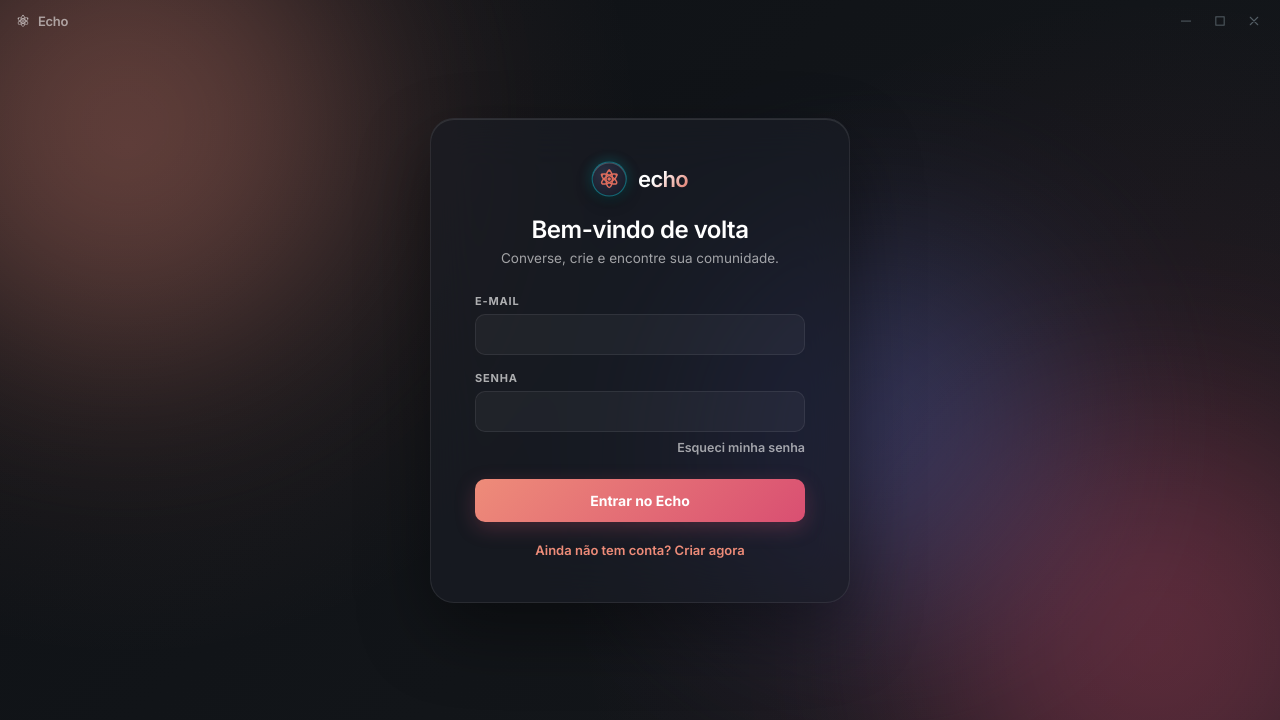
Tela de login › mostra o erro de login em português, nunca o texto cru do servidor
In the field labelled "E-mail": (640, 334) [475,314,805,354], type "ana@exemplo.test"
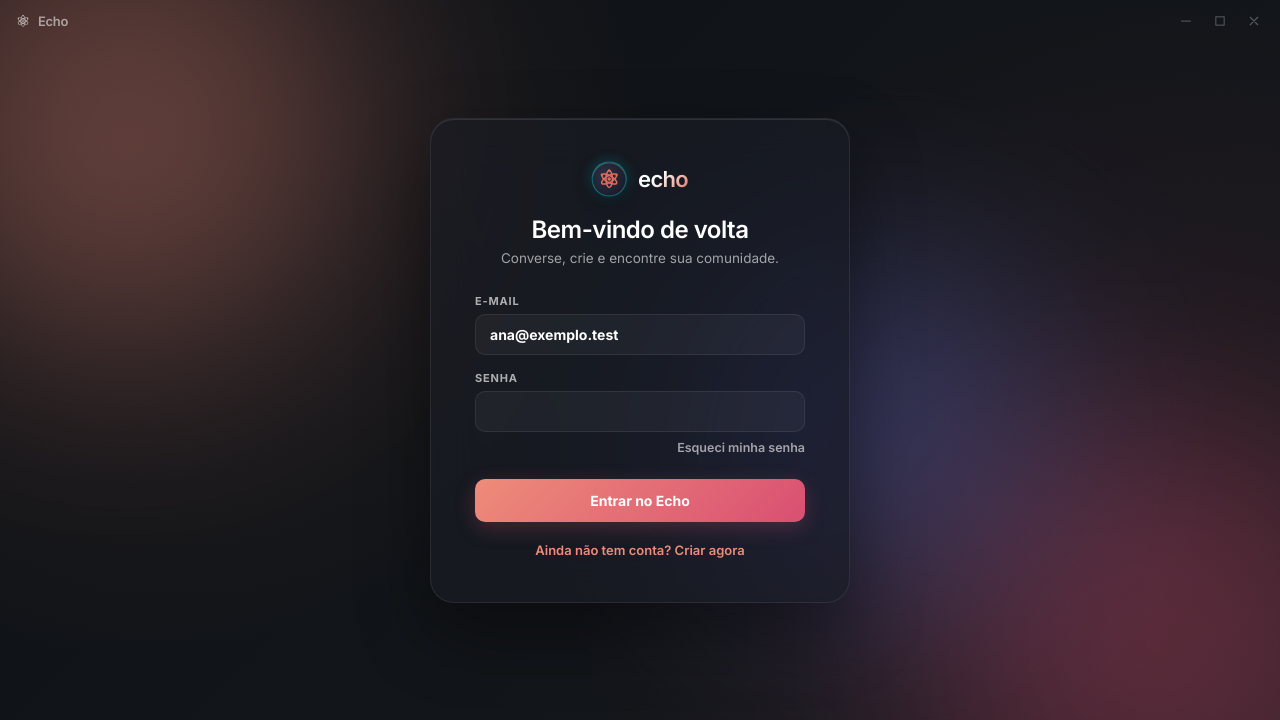
In the password field labelled "Senha": (640, 411) [475,390,805,432], type "errada-1"
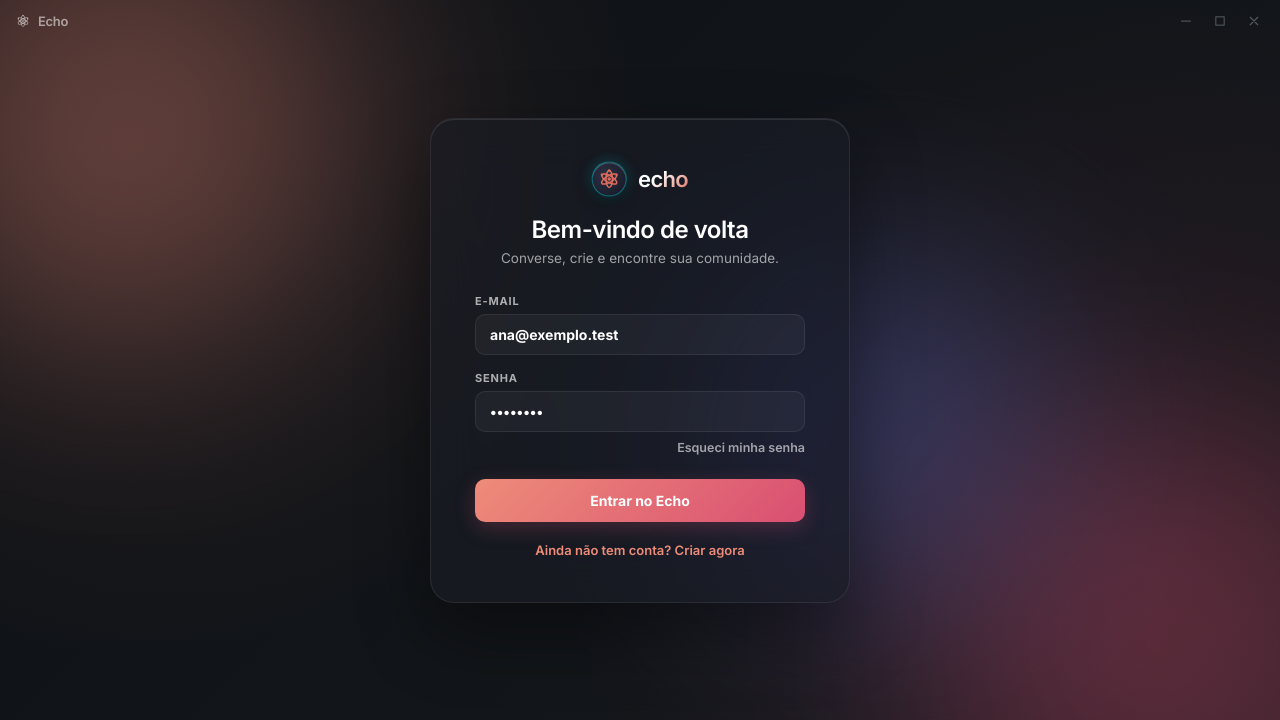
Submit the form, box [475,294,805,522]
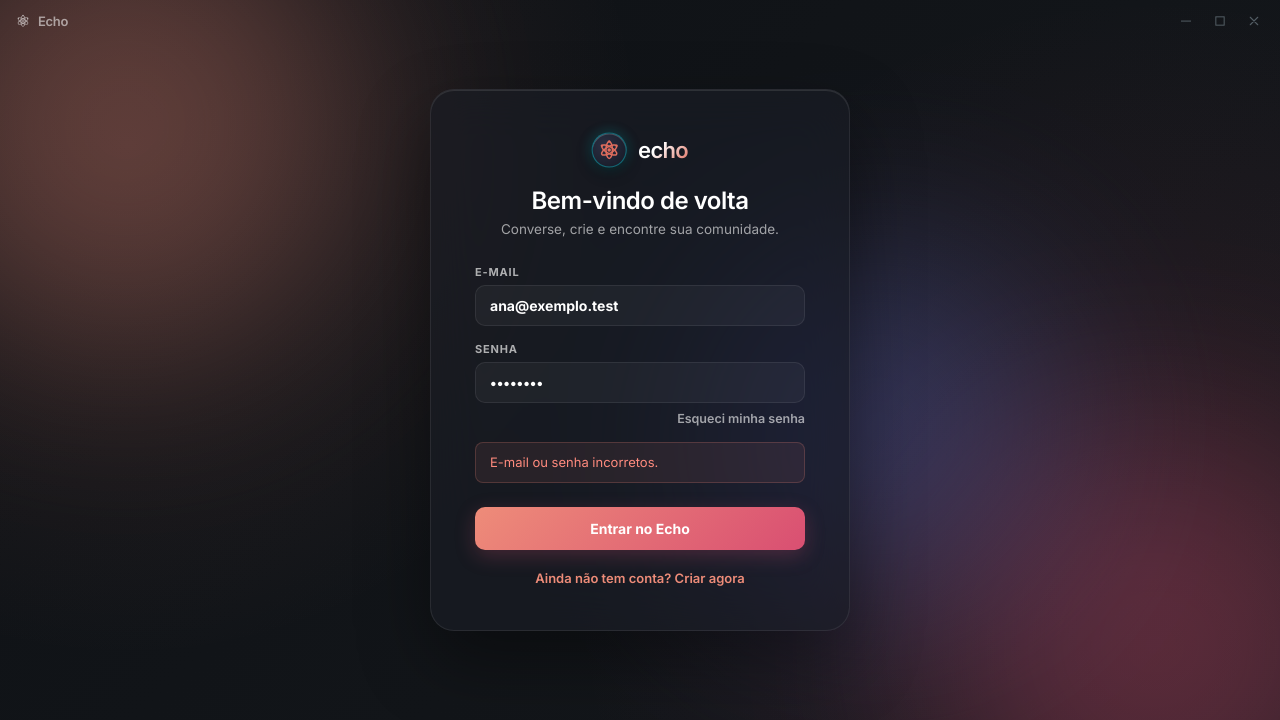
Check: the text "E-mail ou senha incorretos." is shown, box [475,442,805,483]
